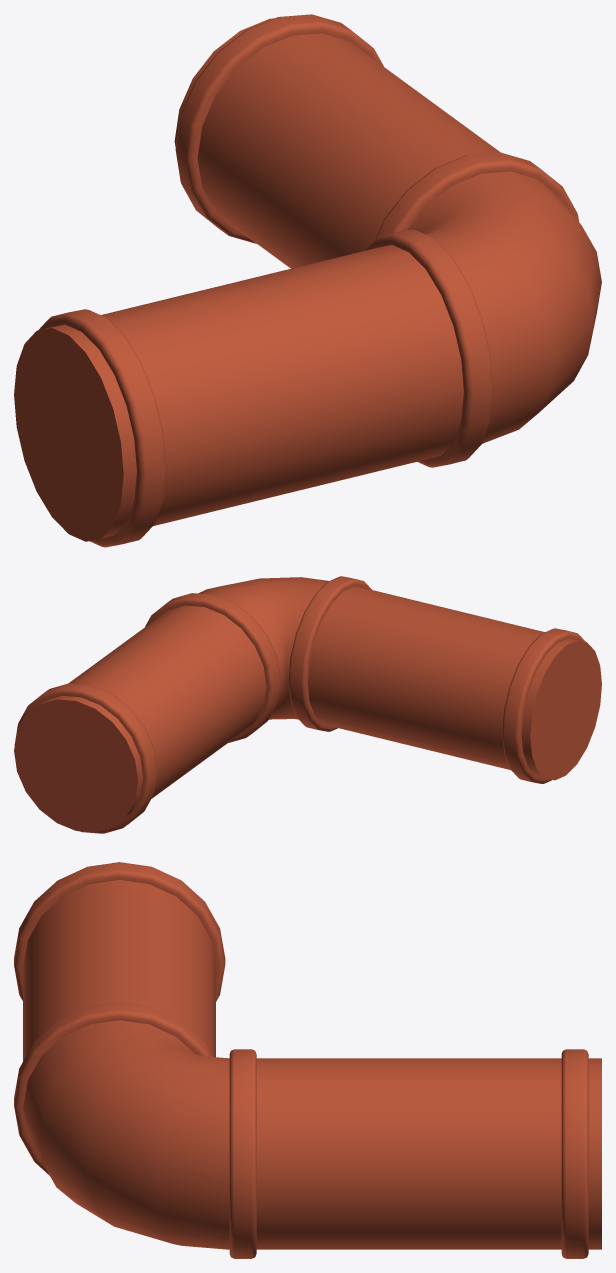
File: SM_Tuyau_Angle.fbx
3 views of the same model, one above another, from view 1: azimuth 30°, elevation 25°; view 2: azimuth 150°, elevation 25°; view 3: azimuth 270°, elevation 25° (orthographic). The views are drawn at different scales.
Parts seen in each view (by area): view 1: Tuyau_Angle; view 2: Tuyau_Angle; view 3: Tuyau_Angle.
Part boxes in pixels (bbox=[...]): Tuyau_Angle: bbox=[14, 14, 601, 547]; Tuyau_Angle: bbox=[14, 576, 601, 833]; Tuyau_Angle: bbox=[14, 862, 601, 1258].
Size of the model in its own units: 38.09 by 13.69 by 38.09.
